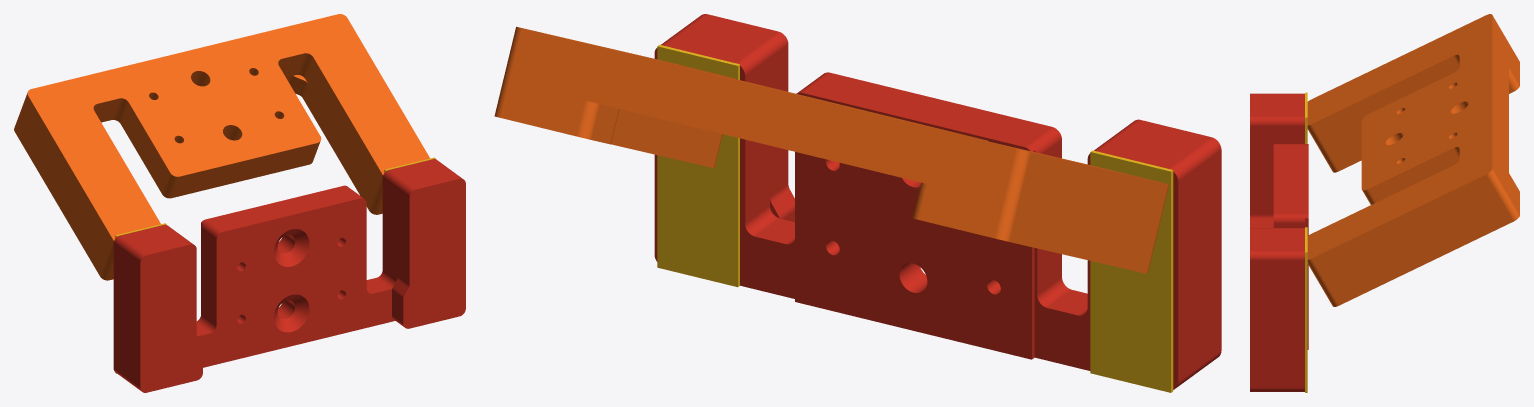
File: HR-V0_J2_positive_stop_contact_candidate.glb
The picture shows the model from 3 angles, left to right: view 1: azimuth 30°, elevation 25°; view 2: azimuth 150°, elevation 25°; view 3: azimuth 270°, elevation 25°; orthographic projection. The views are drawn at different scales.
Parts seen in each view (by area): view 1: MV0-C06_MOVING_STRIKER_AT_CONTACT, MV0-C07_FIXED_CATCH; view 2: MV0-C07_FIXED_CATCH, MV0-C06_MOVING_STRIKER_AT_CONTACT, BUMPER_SR1_MAXIMUM_ENVELOPE_SELECTION_REQUIRED; view 3: MV0-C06_MOVING_STRIKER_AT_CONTACT, MV0-C07_FIXED_CATCH, BUMPER_SR1_MAXIMUM_ENVELOPE_SELECTION_REQUIRED.
Boxes of the visible parts, x1,y1,x2,y2 form: MV0-C06_MOVING_STRIKER_AT_CONTACT: (14, 14, 429, 280); MV0-C07_FIXED_CATCH: (113, 159, 465, 392); MV0-C07_FIXED_CATCH: (654, 14, 1221, 389); MV0-C06_MOVING_STRIKER_AT_CONTACT: (494, 26, 1169, 273); BUMPER_SR1_MAXIMUM_ENVELOPE_SELECTION_REQUIRED: (657, 44, 1173, 392); MV0-C06_MOVING_STRIKER_AT_CONTACT: (1307, 14, 1519, 306); MV0-C07_FIXED_CATCH: (1250, 93, 1308, 391); BUMPER_SR1_MAXIMUM_ENVELOPE_SELECTION_REQUIRED: (1305, 92, 1307, 392).
Bounding box in the file's own units: 104 × 66.05 × 72.99.
